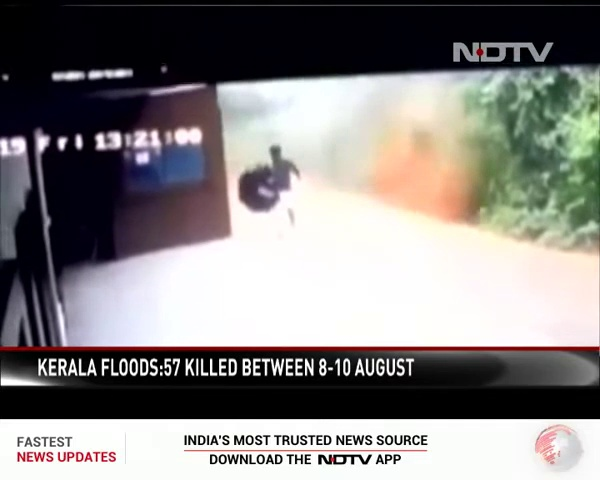person: (264, 144, 305, 229)
